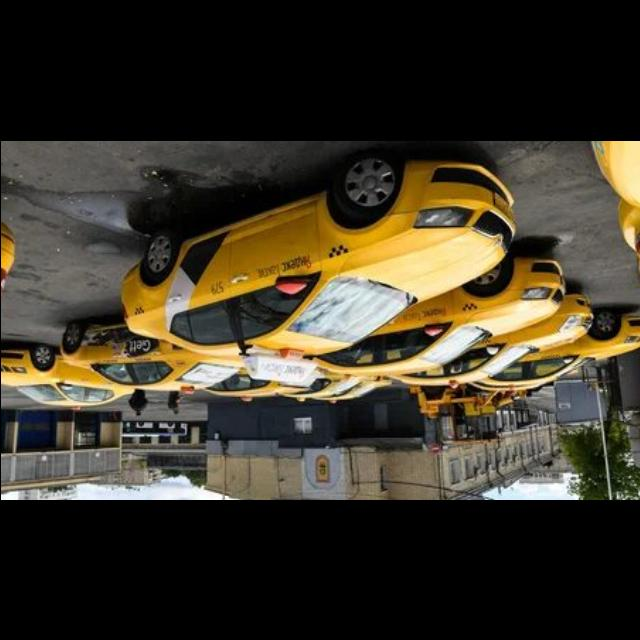taxi: (122, 153, 518, 383), (306, 253, 567, 379), (389, 290, 595, 390), (467, 310, 640, 394), (61, 320, 245, 396), (2, 346, 137, 412), (2, 204, 17, 320)
